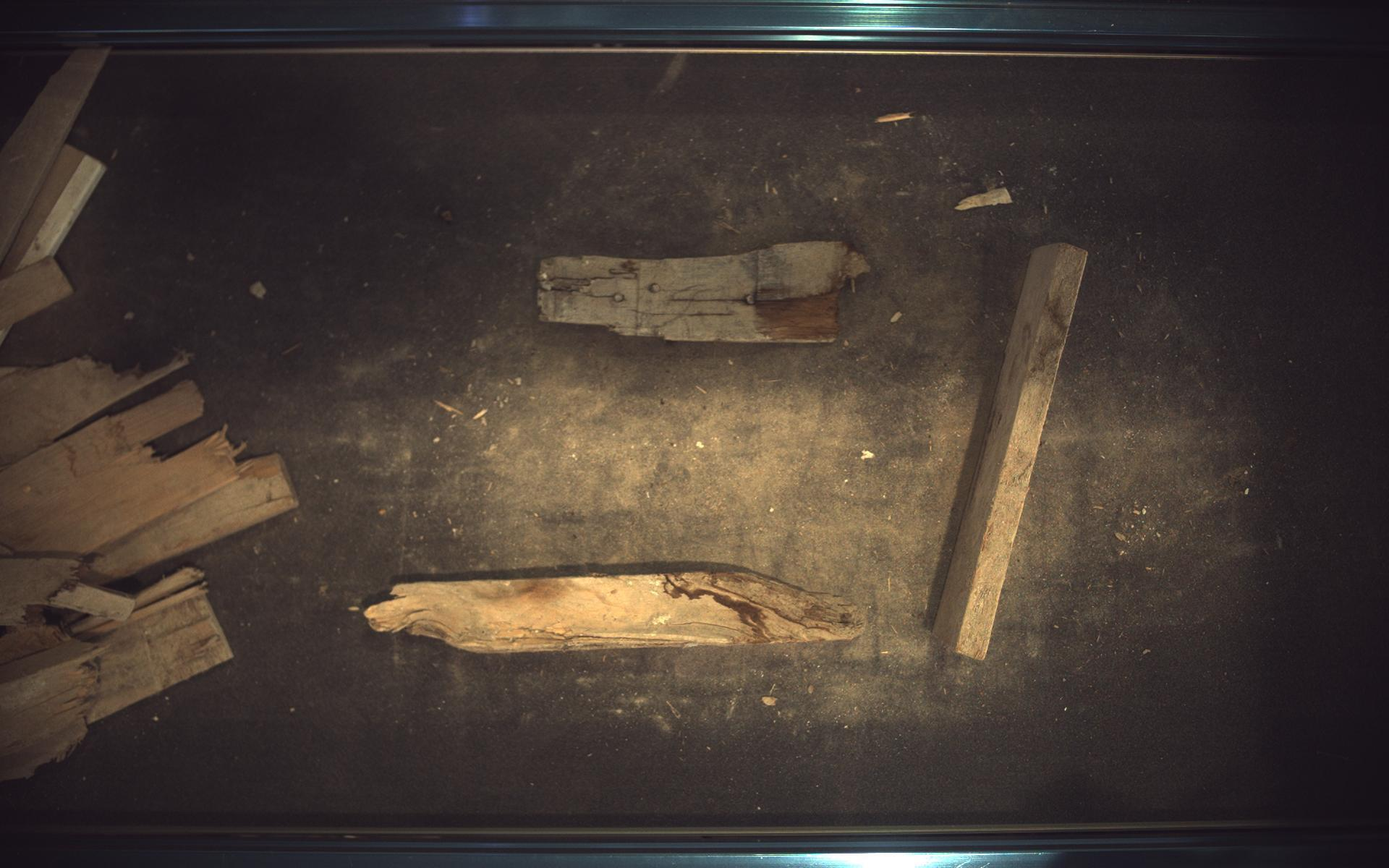wood: (364, 567, 866, 655)
